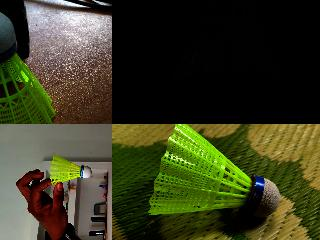shuttlecock: (166, 0, 293, 109), (147, 124, 281, 221), (0, 9, 55, 123), (49, 154, 91, 184)
